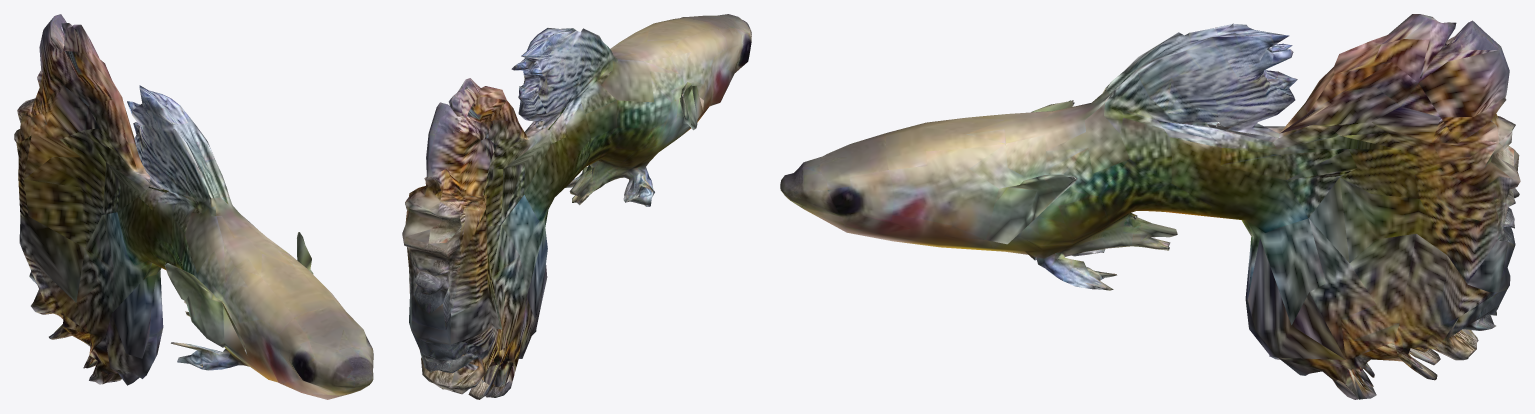
File: strain-platinum_red_tiger.lo.glb
3 renders of one model, left to right at view 1: azimuth 30°, elevation 25°; view 2: azimuth 150°, elevation 25°; view 3: azimuth 270°, elevation 25°, orthographic. The views are drawn at different scales.
Visible parts, largest first — view 1: Mesh_0.001; view 2: Mesh_0.001; view 3: Mesh_0.001.
Part boxes in pixels (x1,y1,x2,y2): Mesh_0.001: (14, 14, 373, 399); Mesh_0.001: (402, 14, 751, 399); Mesh_0.001: (780, 14, 1520, 399).
Size of the model in its own units: 0.00827 by 0.0198 by 0.0345.
Materials: 2 (2 with a texture image).
